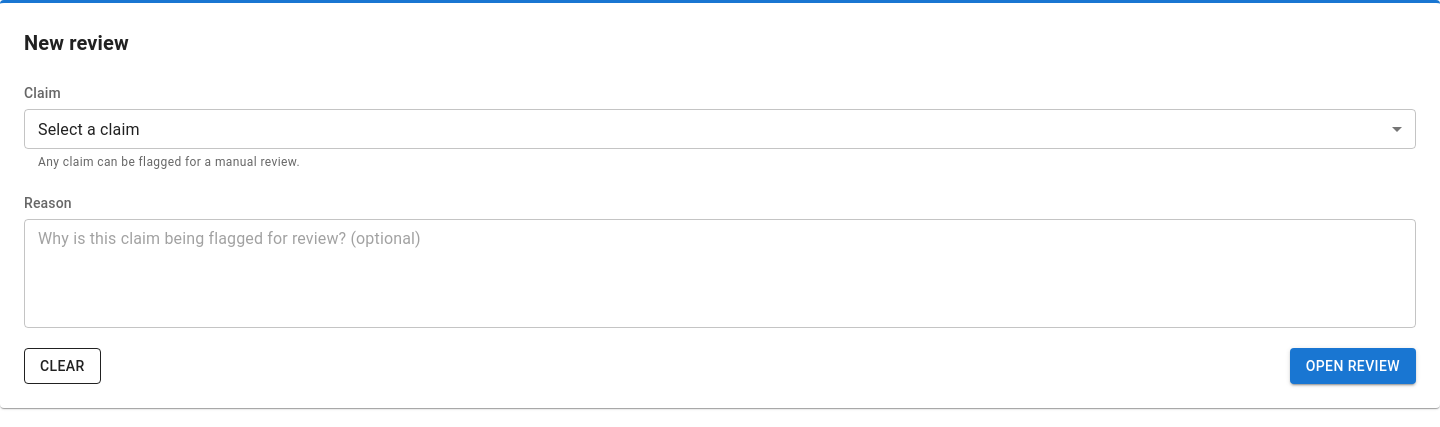
it: CreateClaimReviewForm › blocks submit when no claim is chosen
Step 1. Click the button "Open review" → {"x": 1353, "y": 366}, box [1290,348,1416,384]
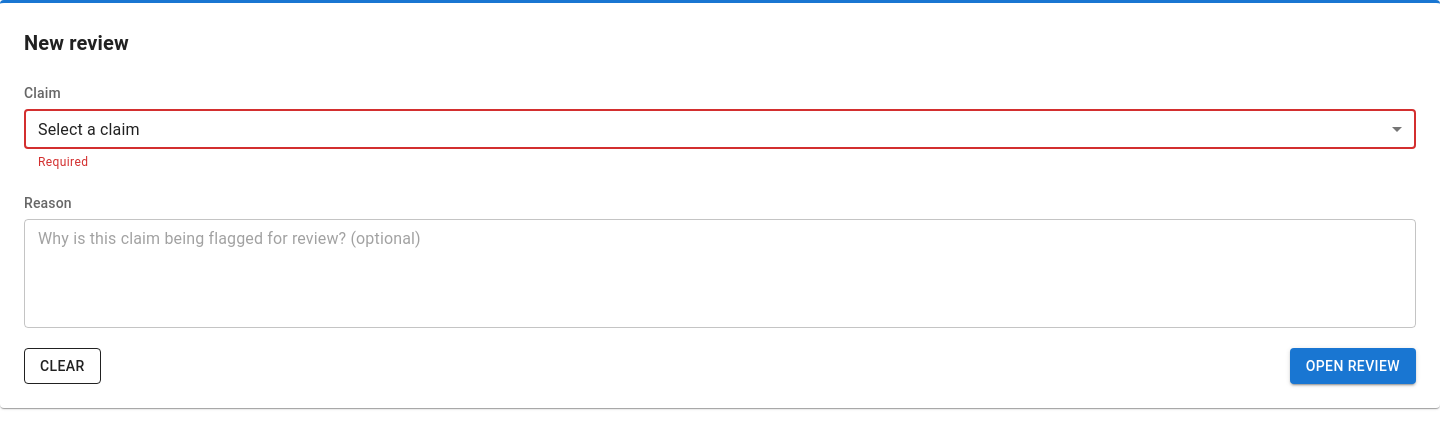
Expected: the text "Required" is shown, [38,155,88,169]
